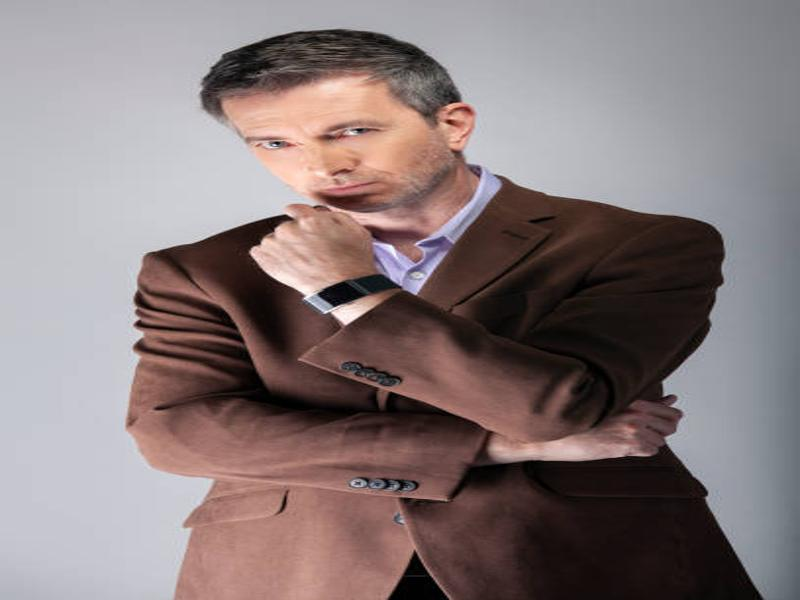watch: (301, 268, 407, 318)
